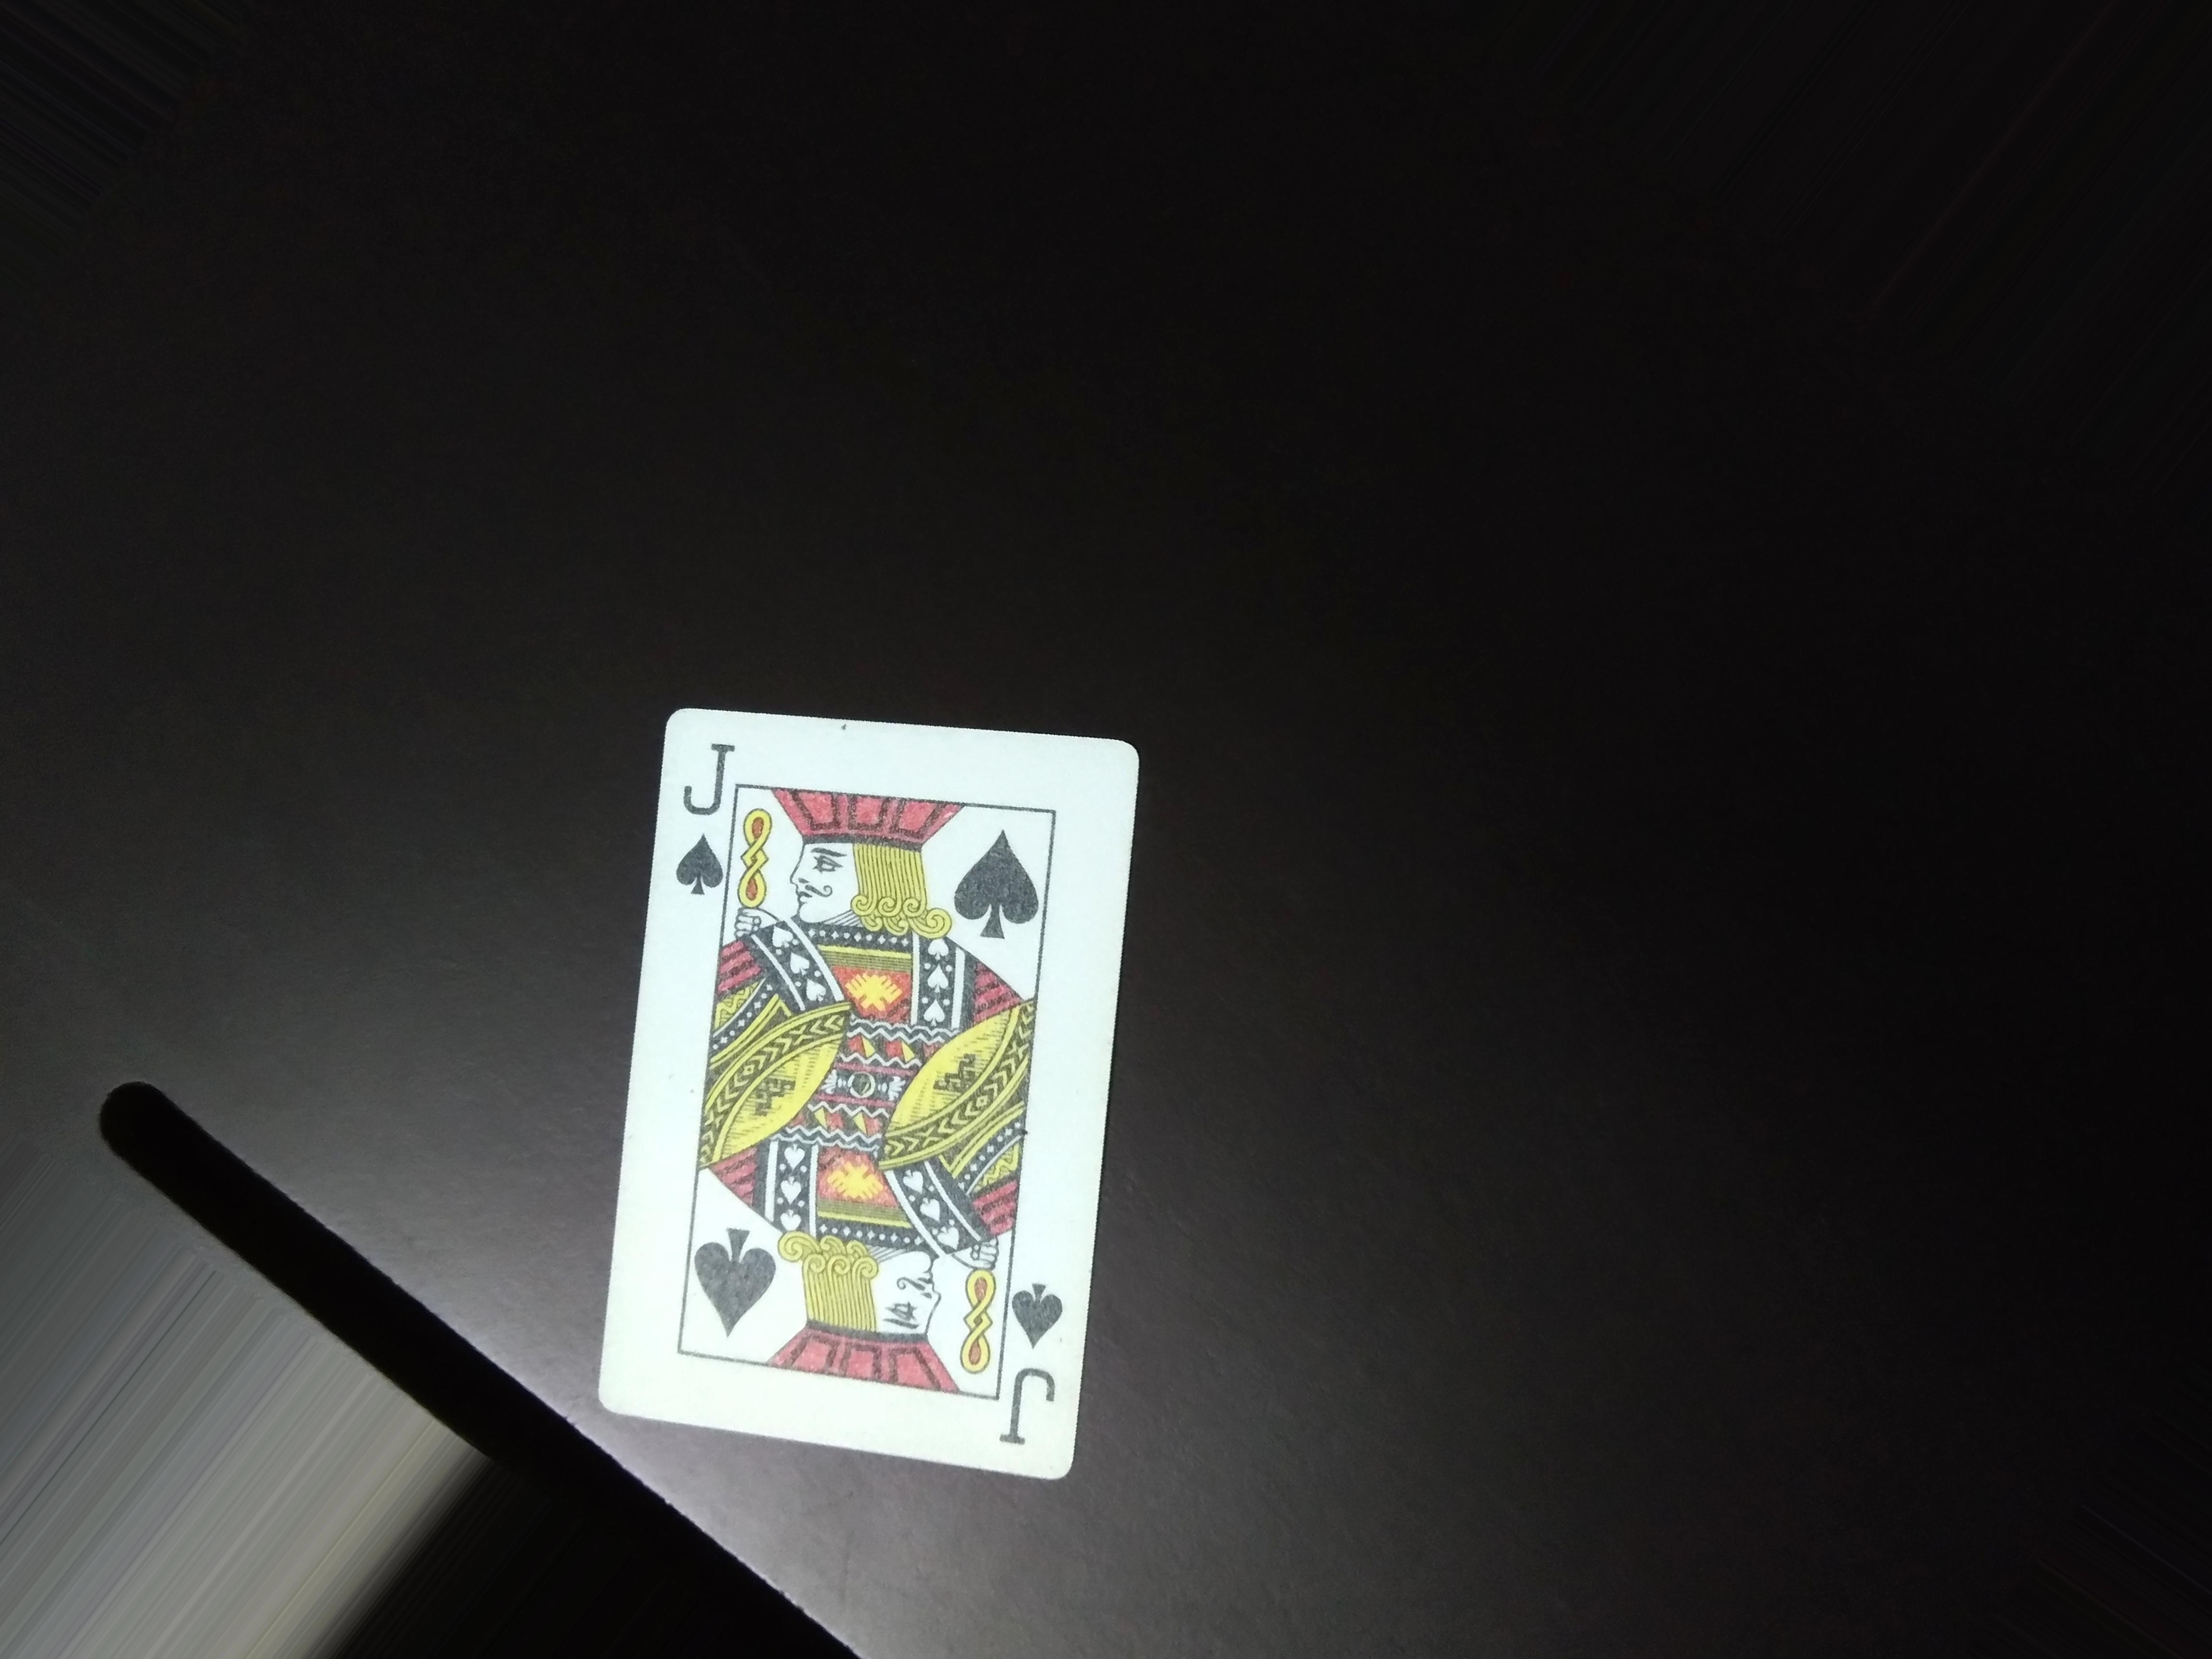JS: (1001, 1256, 1073, 1453)
